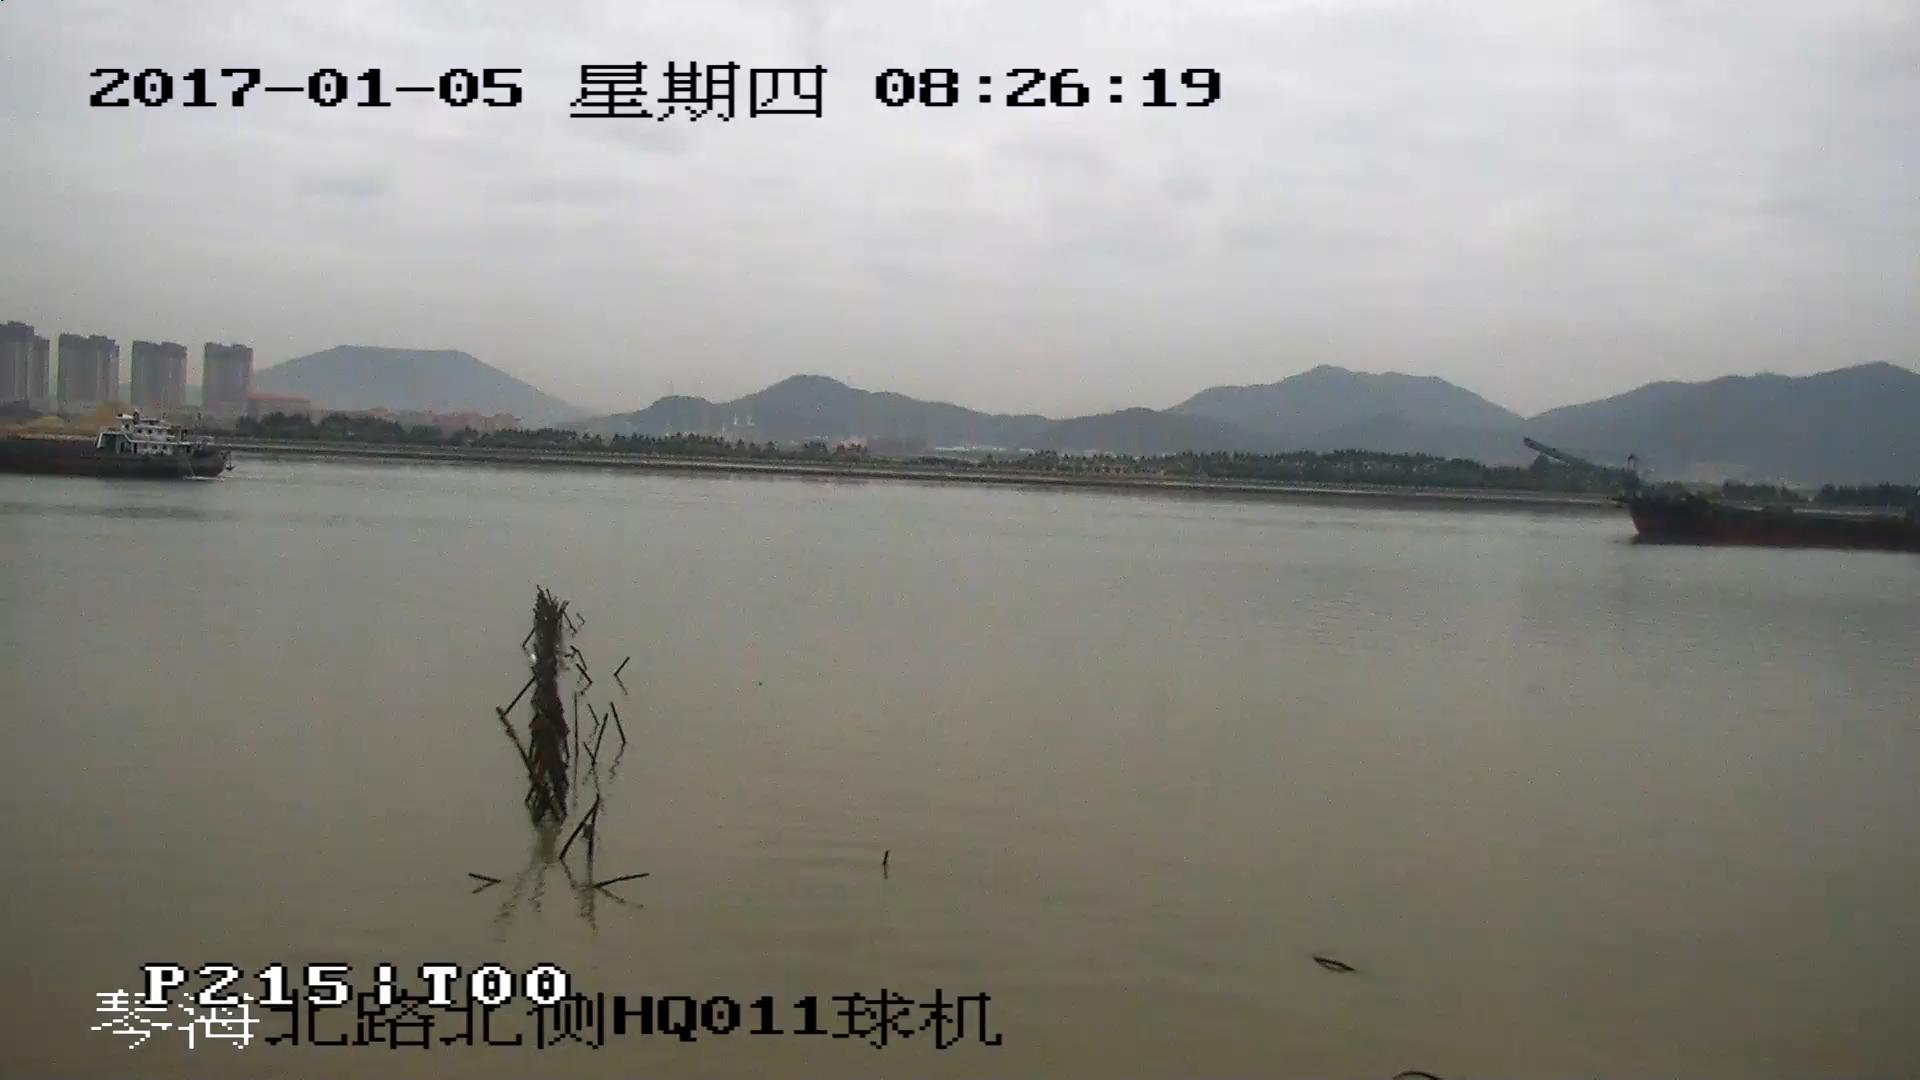Ship: (1519, 436, 1920, 547), (3, 410, 236, 483)
